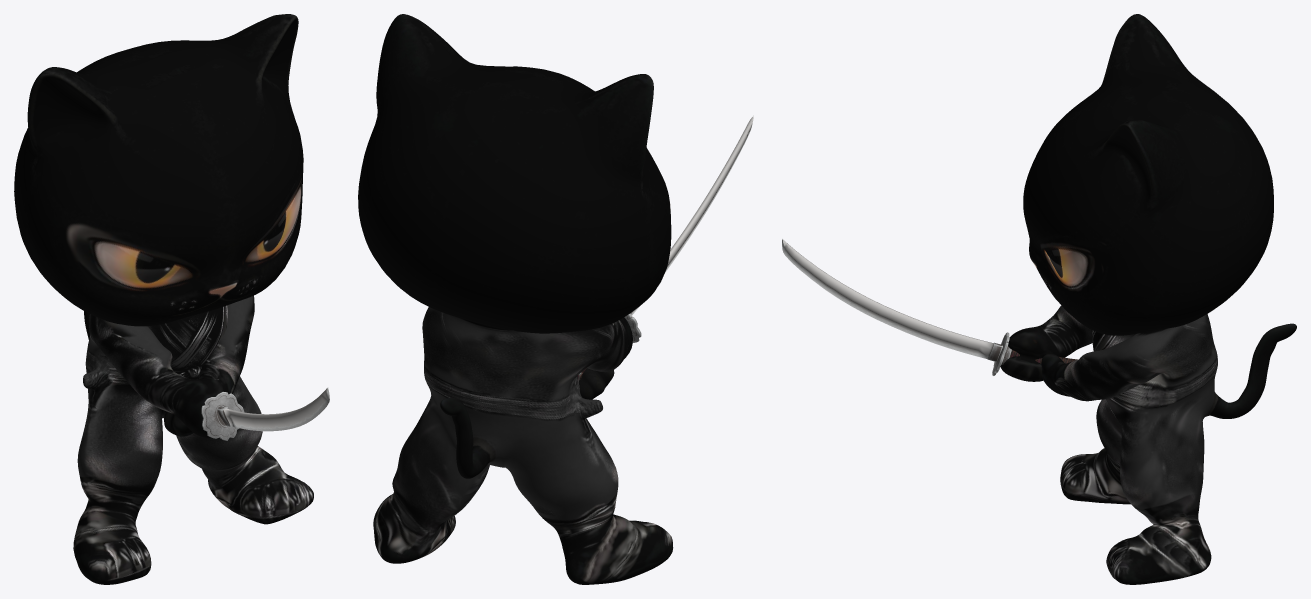
Rendered from Catrobot.glb.
3 renders of one model, left to right at view 1: azimuth 30°, elevation 25°; view 2: azimuth 150°, elevation 25°; view 3: azimuth 270°, elevation 25°, orthographic. The views are drawn at different scales.
Visible parts, largest first — view 1: Cat_low, katana; view 2: Cat_low, katana; view 3: Cat_low, katana.
Part boxes in pixels (bbox=[...]): Cat_low: bbox=[14, 14, 313, 584]; katana: bbox=[201, 387, 329, 440]; Cat_low: bbox=[358, 14, 673, 584]; katana: bbox=[577, 115, 753, 380]; Cat_low: bbox=[1000, 14, 1296, 584]; katana: bbox=[782, 239, 1077, 375].
Size of the model in its own units: 1.57 by 2.73 by 2.76.
Materials: 2 (2 with a texture image).
